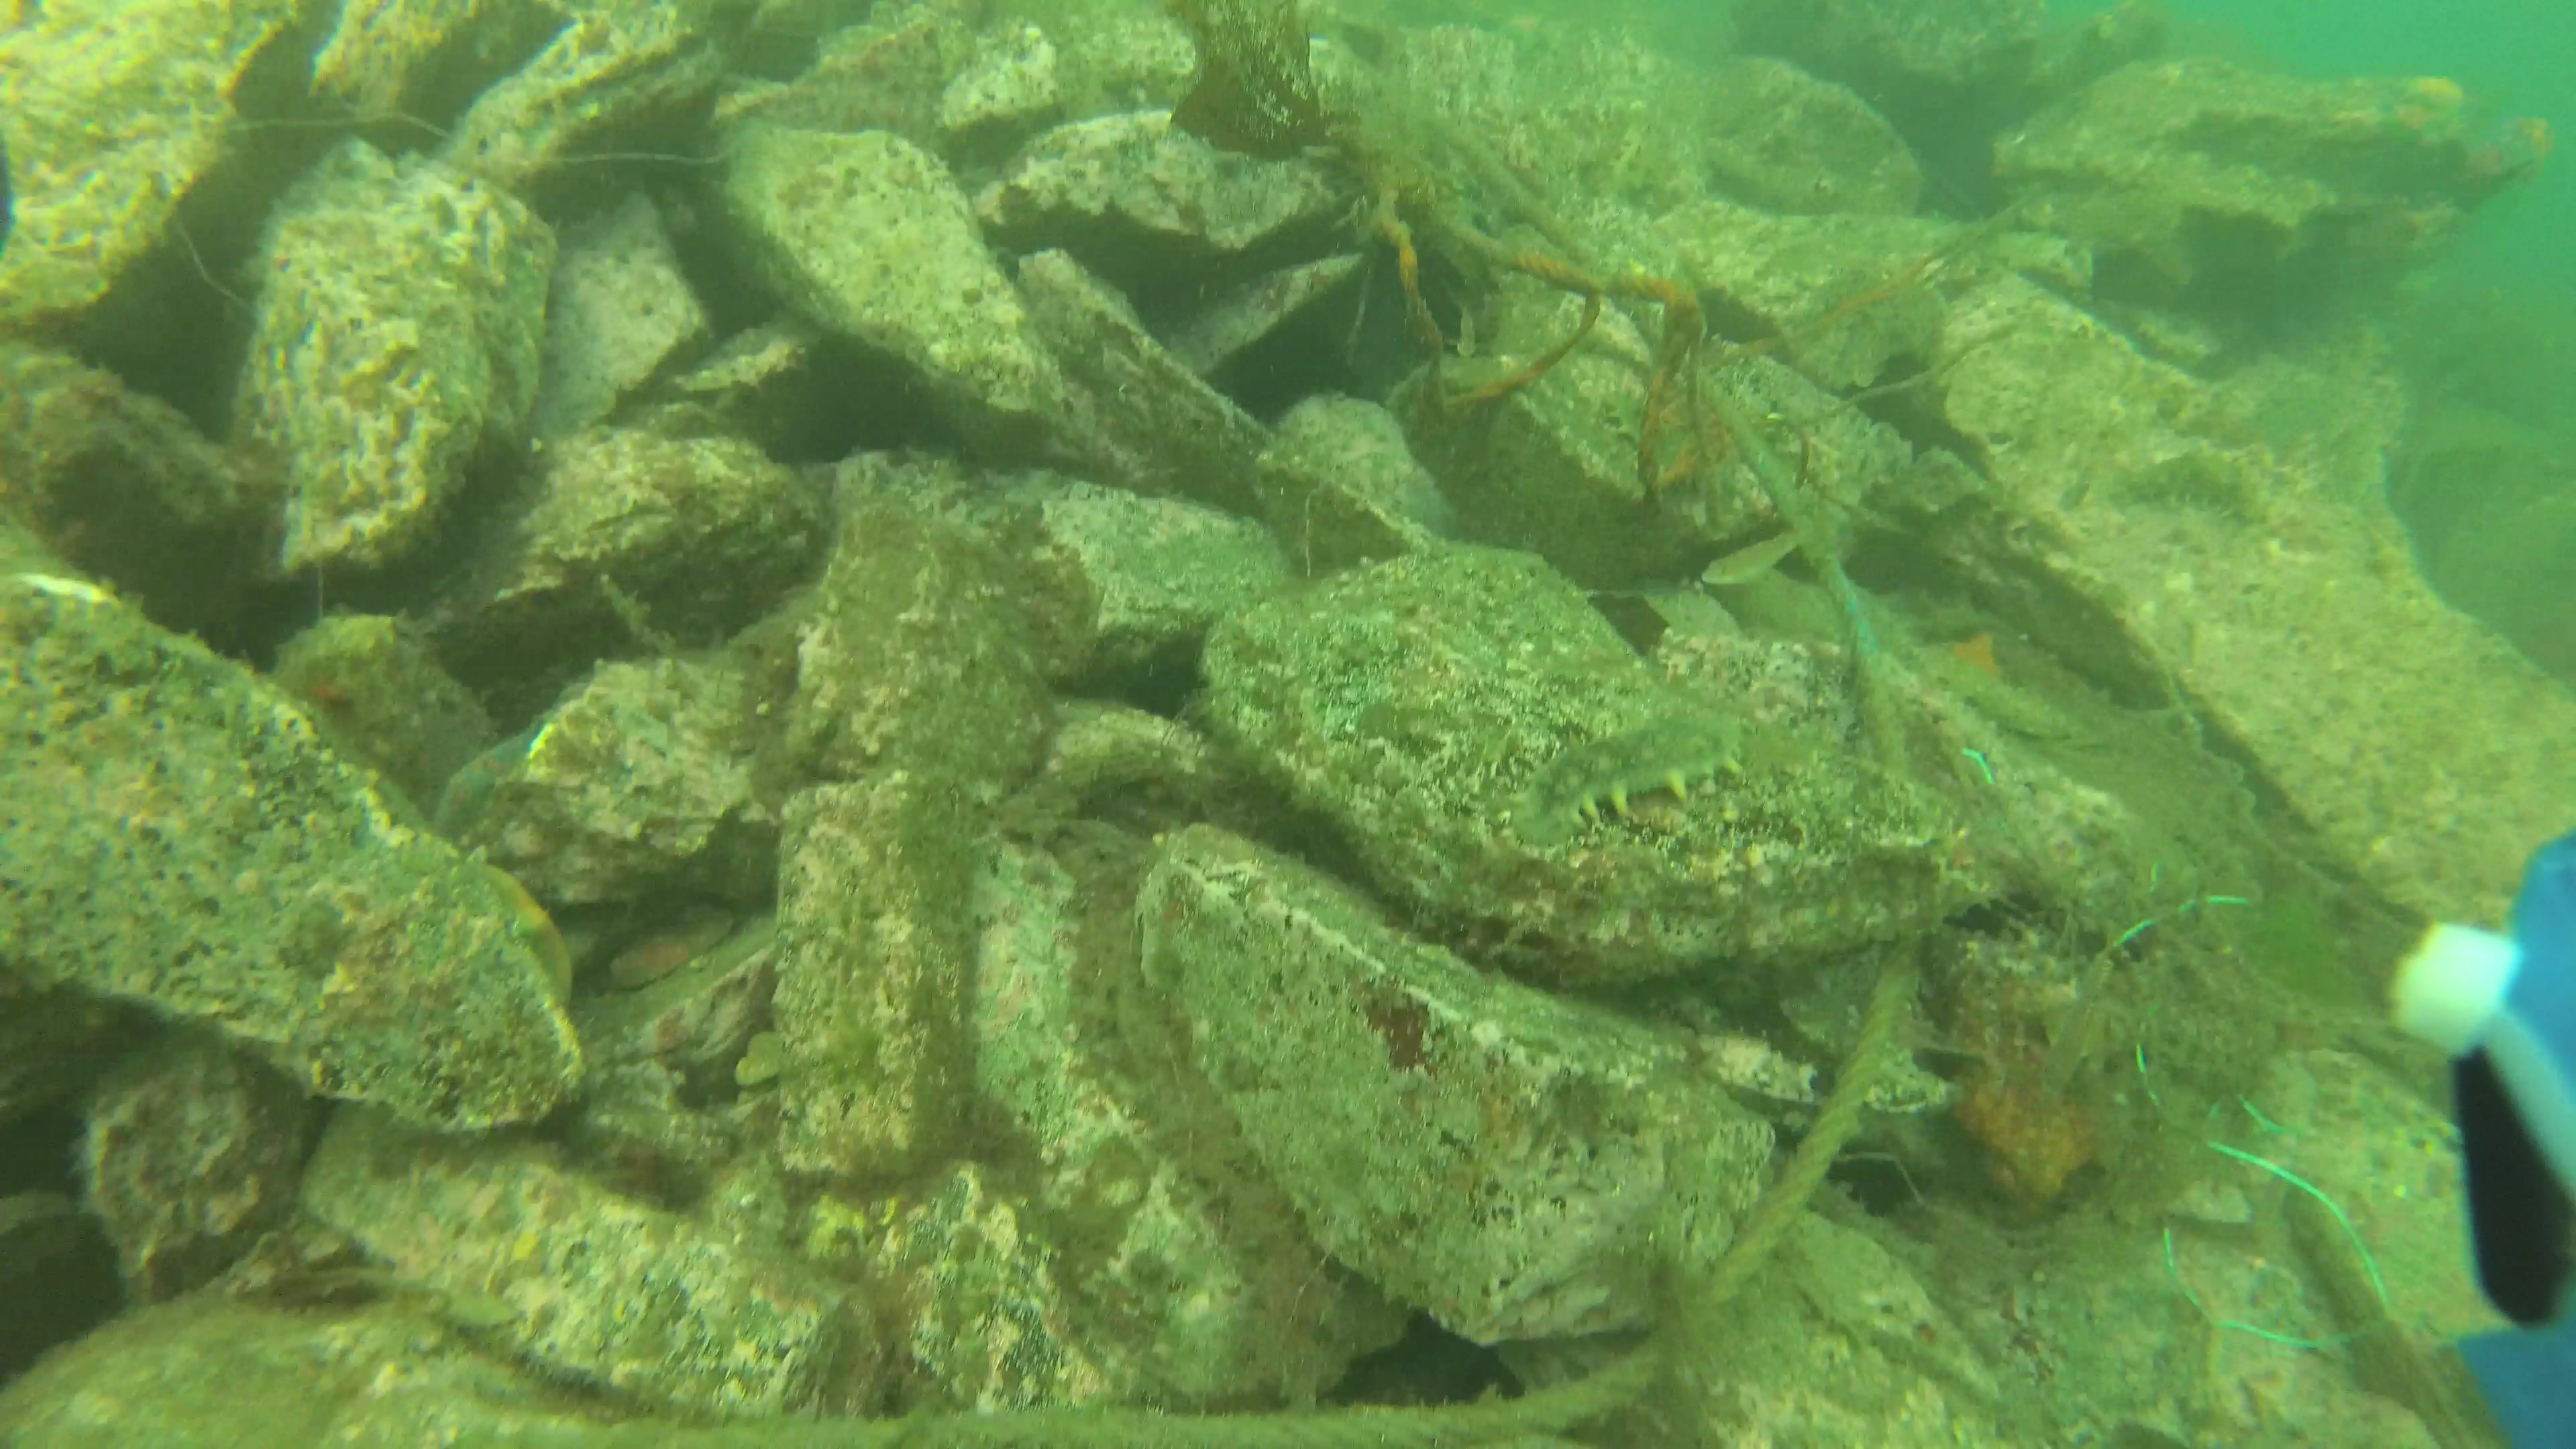holothurian: (1504, 718, 1755, 835)
